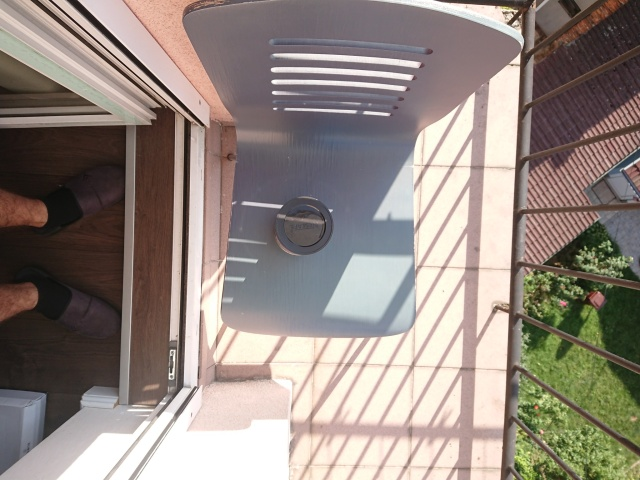Nescafe Classic 225g: (270, 192, 336, 259)
